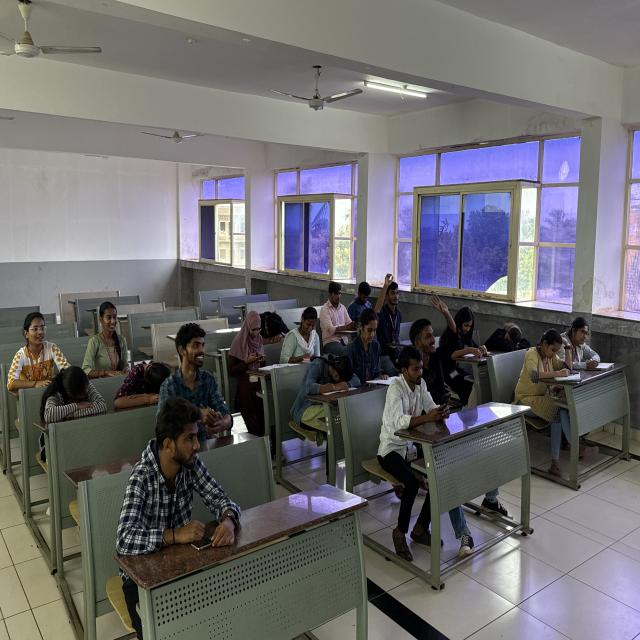Hand Rising: (408, 289, 459, 390), (372, 267, 402, 348)
Reading: (511, 324, 580, 415), (344, 304, 396, 392), (437, 296, 489, 362)
Sleeping: (33, 358, 109, 438), (284, 348, 365, 418), (113, 352, 184, 414), (478, 317, 534, 359)
Using Phone: (371, 339, 454, 452), (224, 306, 269, 390), (280, 306, 323, 368)
Writing: (554, 310, 609, 374)
